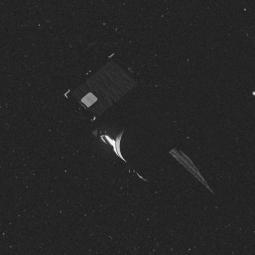proba_3_csc: (51, 41, 236, 204)
